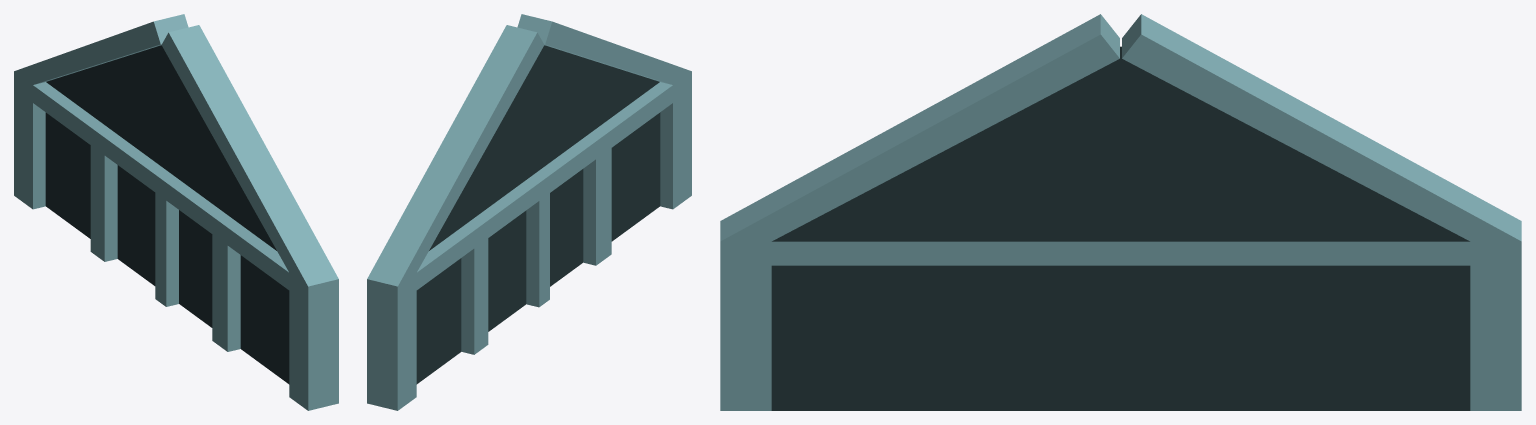
File: SM A Gable End.fbx
3 renders of one model, left to right at view 1: azimuth 30°, elevation 25°; view 2: azimuth 150°, elevation 25°; view 3: azimuth 270°, elevation 25°, orthographic. The views are drawn at different scales.
Parts seen in each view (by area): view 1: SM_Attic_Gable_End; view 2: SM_Attic_Gable_End; view 3: SM_Attic_Gable_End.
Part boxes in pixels (x1=…): SM_Attic_Gable_End: x1=14, y1=14, x2=338, y2=410; SM_Attic_Gable_End: x1=367, y1=14, x2=691, y2=410; SM_Attic_Gable_End: x1=720, y1=14, x2=1521, y2=410.
Bounding box in the file's own units: 36.18 × 311 × 600.
